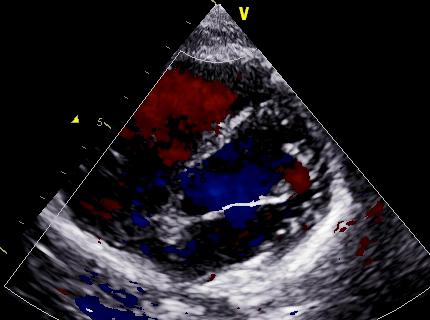TR: (109, 151, 191, 234)
